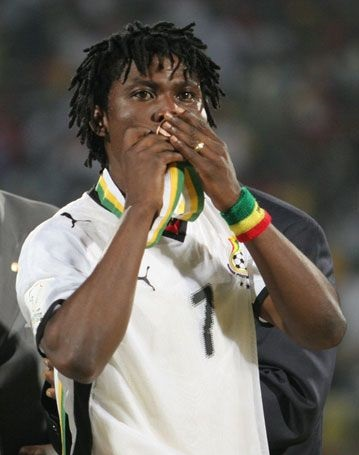face: (107, 45, 205, 182)
